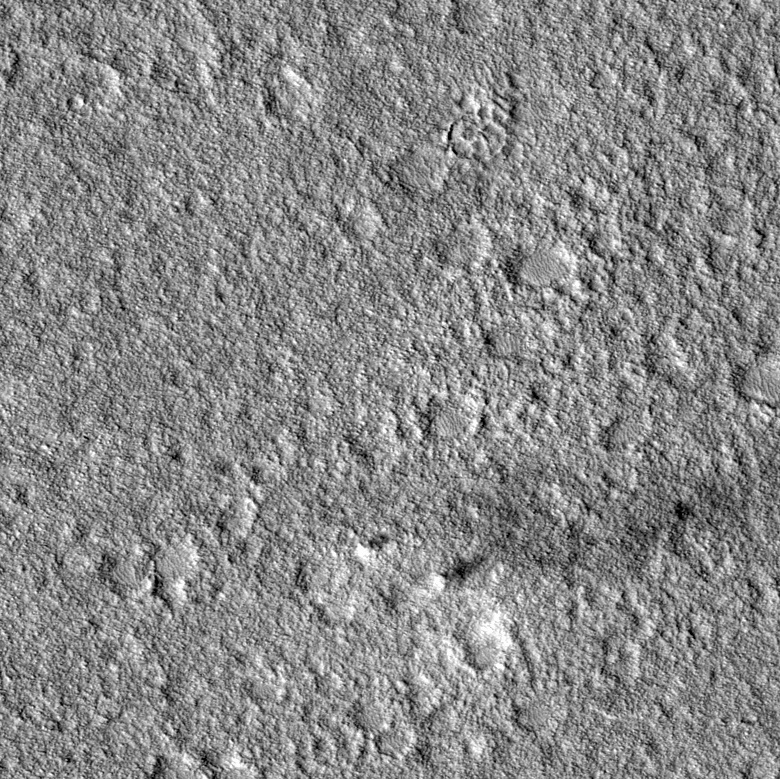dust_devil: (430, 554, 491, 594), (353, 531, 392, 560)
